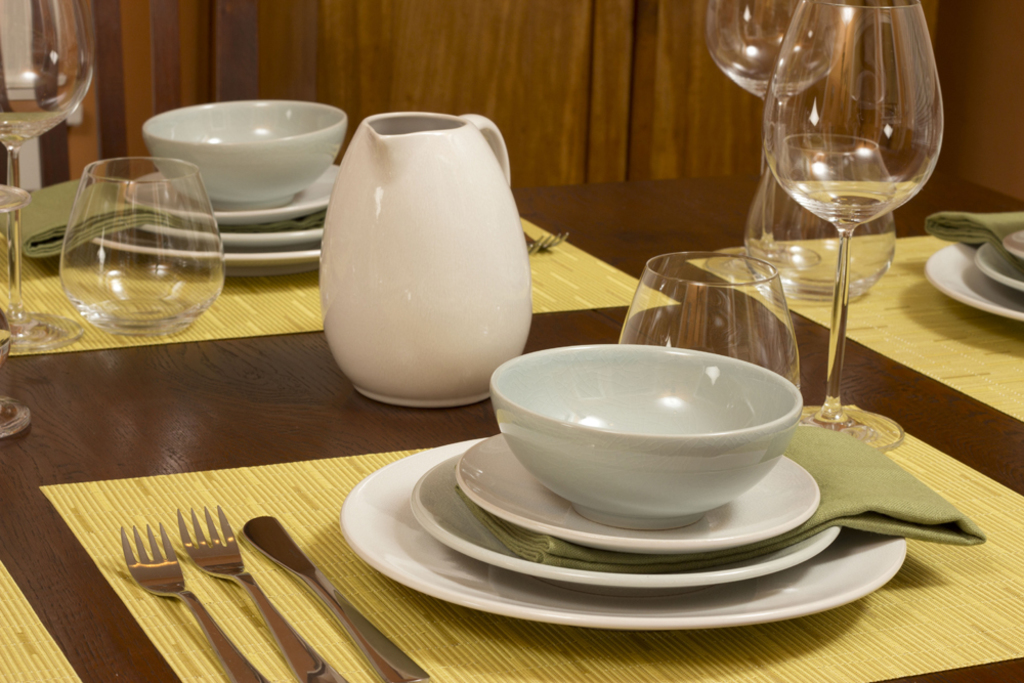plate: (407, 441, 850, 592), (121, 165, 374, 210)
